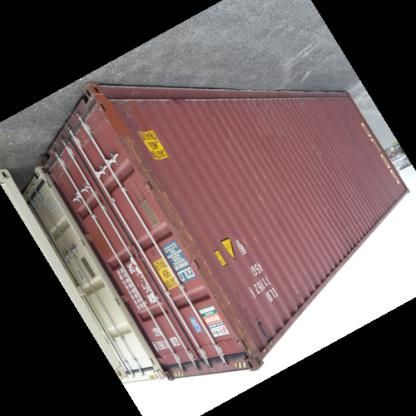Damage: (183, 250, 264, 357), (122, 138, 185, 250)
